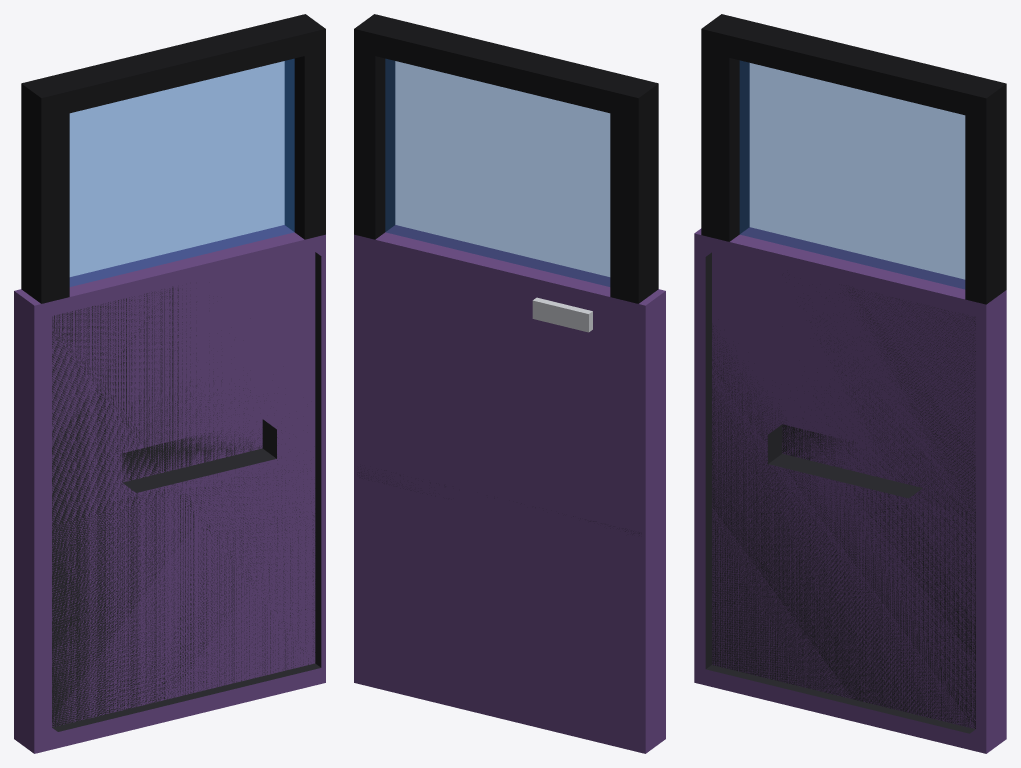
Rendered from door_rear_r.obj.
The picture shows the model from 3 angles, left to right: view 1: azimuth 30°, elevation 25°; view 2: azimuth 150°, elevation 25°; view 3: azimuth 330°, elevation 25°; orthographic projection.
Parts seen in each view (by area): view 1: Door_Rear_R; view 2: Door_Rear_R; view 3: Door_Rear_R.
Part boxes in pixels (left/top/right/bottom): Door_Rear_R: left=14, top=14, right=325, bottom=753; Door_Rear_R: left=354, top=14, right=665, bottom=753; Door_Rear_R: left=694, top=14, right=1006, bottom=753.
Bounding box in the file's own units: 0.83 × 1.78 × 0.19.
